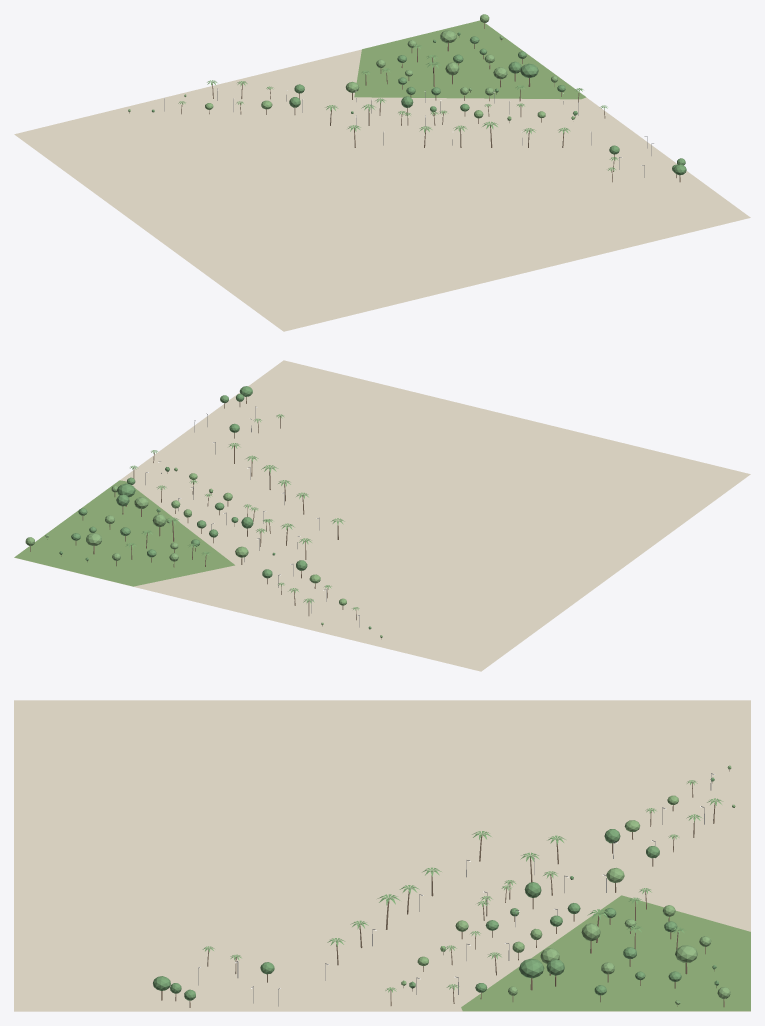
Rendered from nature_-6_-4.glb.
3 renders of one model, top to bottom at view 1: azimuth 30°, elevation 25°; view 2: azimuth 150°, elevation 25°; view 3: azimuth 270°, elevation 25°, orthographic. The views are drawn at different scales.
Visible parts, largest first — view 1: ground, grass, foliage_a, foliage_b, palm_leaf, trunk; view 2: ground, grass, foliage_a, foliage_b, palm_leaf, trunk; view 3: ground, grass, foliage_a, foliage_b, palm_leaf, trunk.
Boxes of the visible parts, x1,y1,x2,y2 form: ground: (14,49,750,331); grass: (354,20,586,99); foliage_a: (152,32,686,175); foliage_b: (128,14,574,120); palm_leaf: (178,44,618,171); trunk: (129,23,680,182); ground: (14,360,750,671); grass: (14,480,234,586); foliage_a: (59,386,371,629); foliage_b: (25,467,382,637); palm_leaf: (125,414,359,610); trunk: (30,397,381,639); ground: (14,700,750,1011); grass: (461,895,750,1011); foliage_a: (153,777,718,1000); foliage_b: (401,765,735,1004); palm_leaf: (202,780,723,992); trunk: (161,769,729,1007).
Size of the model in its own units: 250 by 12.14 by 250.
